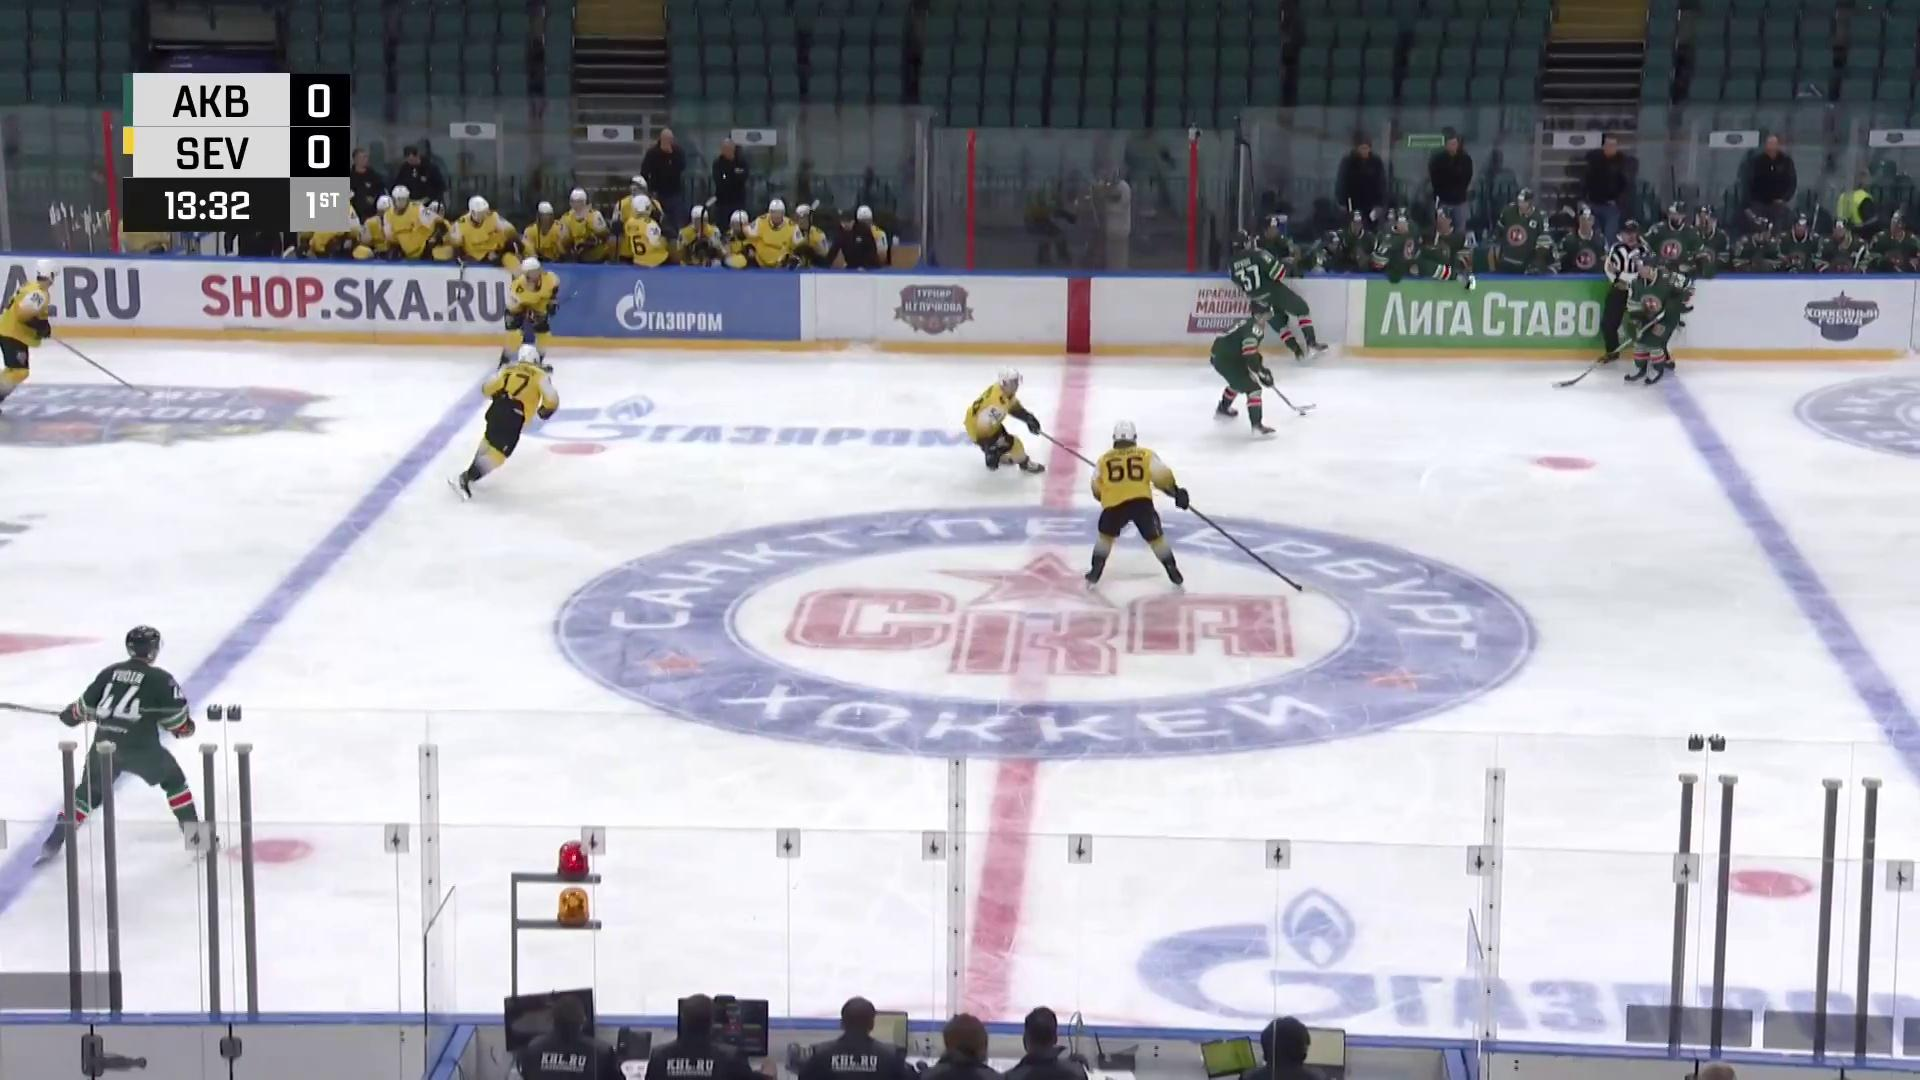ball: (1299, 411, 1308, 418)
